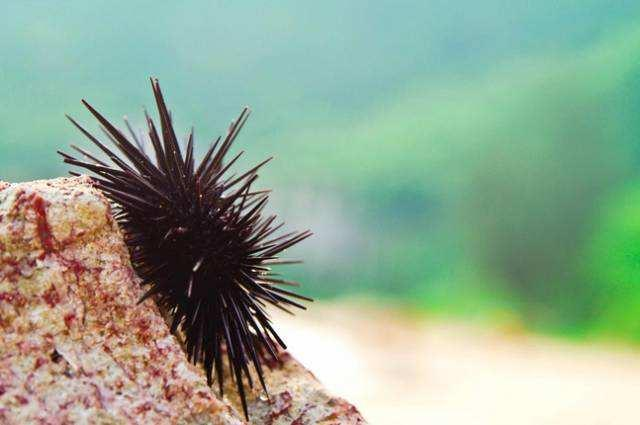urchin: (52, 75, 323, 418)
